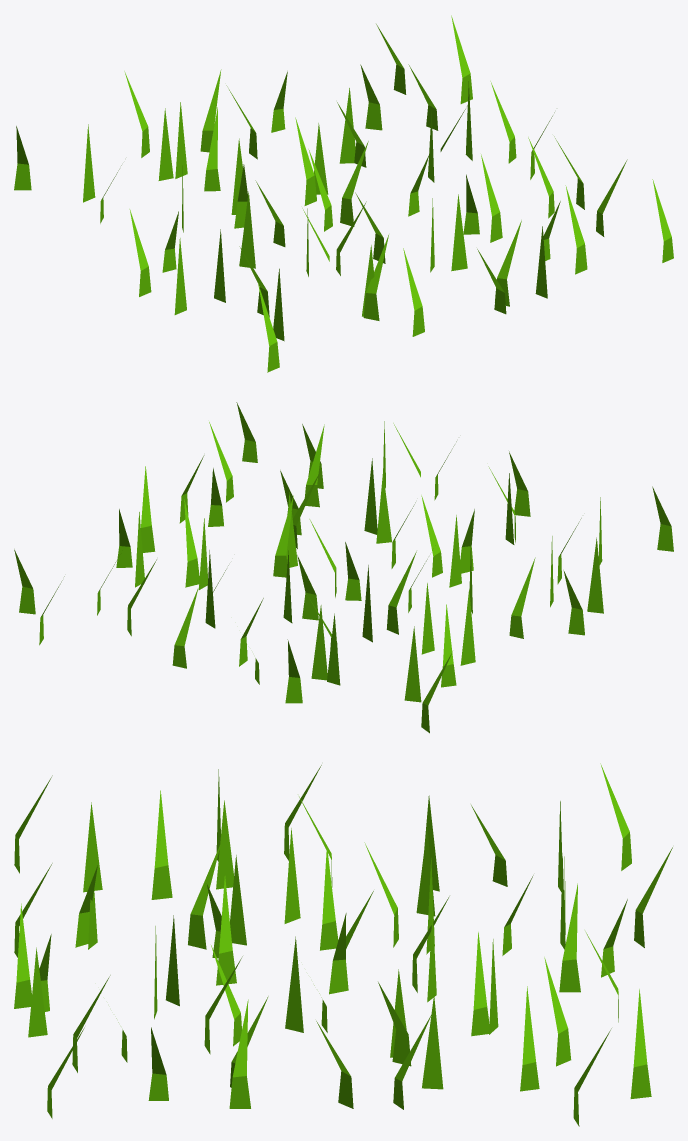
The model's file is Vegetation_Grass_2D_Patch_Square_01.fbx.
3 views of the same model, one above another, from view 1: azimuth 30°, elevation 25°; view 2: azimuth 150°, elevation 25°; view 3: azimuth 270°, elevation 25° (orthographic). The views are drawn at different scales.
Visible parts, largest first — view 1: Vegetation_Grass_2D_Patch_Square_01; view 2: Vegetation_Grass_2D_Patch_Square_01; view 3: Vegetation_Grass_2D_Patch_Square_01.
Boxes of the visible parts, <box> form: Vegetation_Grass_2D_Patch_Square_01: <box>14,15,673,372</box>; Vegetation_Grass_2D_Patch_Square_01: <box>14,402,673,733</box>; Vegetation_Grass_2D_Patch_Square_01: <box>14,763,672,1126</box>.
Size of the model in its own units: 2062 by 334 by 2105.
